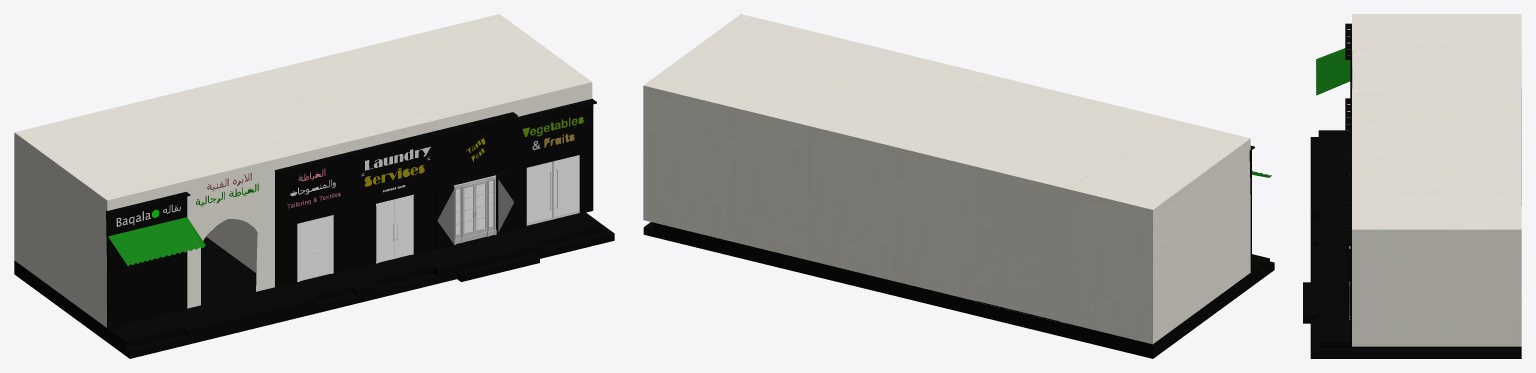
File: Shop FRUITS AND VEGETABLES.fbx
3 views of the same model, side by side, from view 1: azimuth 30°, elevation 25°; view 2: azimuth 150°, elevation 25°; view 3: azimuth 270°, elevation 25° (orthographic). The views are drawn at different scales.
Parts seen in each view (by area): view 1: Shop4, pCube5, pCube7, Shop3, Shop, Shop2, Shop1, polySurface13, polySurface12, pCube6, polySurface10, polySurface42 (+10 smaller); view 2: Shop4, Shop1, Shop2, Shop3, Shop, pCube7, pCube6, pCube5; view 3: Shop, pCube5, pCube7, Shop1, Shop2, Shop3, Shop4, pCube6, pCube1, polySurface10, polySurface11, polySurface42 (+3 smaller).
Boxes of the visible parts, x1,y1,x2,y2 form: Shop4: [14, 113, 186, 327]; pCube5: [14, 212, 601, 348]; pCube7: [94, 91, 275, 308]; Shop3: [183, 72, 354, 280]; Shop: [420, 14, 592, 225]; Shop2: [262, 52, 433, 150]; Shop1: [341, 33, 512, 131]; polySurface13: [275, 151, 357, 287]; polySurface12: [354, 131, 437, 268]; pCube6: [14, 212, 614, 358]; polySurface10: [514, 98, 596, 229]; polySurface42: [106, 191, 190, 328]; Shop4: [976, 118, 1250, 344]; Shop1: [726, 34, 906, 260]; Shop2: [810, 54, 990, 280]; Shop3: [893, 75, 1073, 301]; Shop: [643, 14, 823, 240]; pCube7: [976, 95, 1166, 189]; pCube6: [643, 222, 1274, 358]; pCube5: [652, 222, 1269, 351]; Shop: [1352, 194, 1521, 346]; pCube5: [1310, 130, 1521, 348]; pCube7: [1352, 49, 1521, 205]; Shop1: [1352, 159, 1521, 194]; Shop2: [1352, 124, 1521, 159]; Shop3: [1352, 88, 1521, 123]; Shop4: [1352, 14, 1521, 49]; pCube6: [1303, 137, 1521, 358]; pCube1: [1316, 48, 1350, 95]; polySurface10: [1343, 209, 1351, 346]; polySurface11: [1343, 169, 1351, 209]; polySurface42: [1345, 23, 1351, 98].
Bounding box in the file's own units: 40.95 × 11.44 × 17.53.
